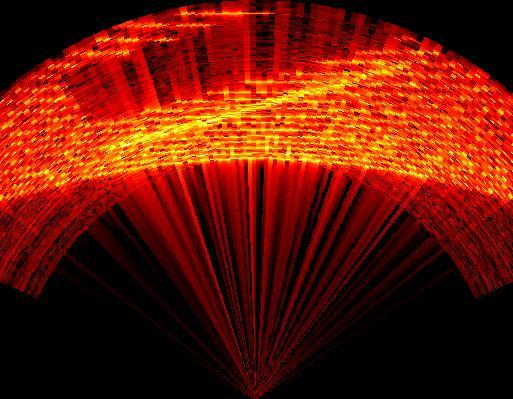pipe: (57, 4, 452, 157)
